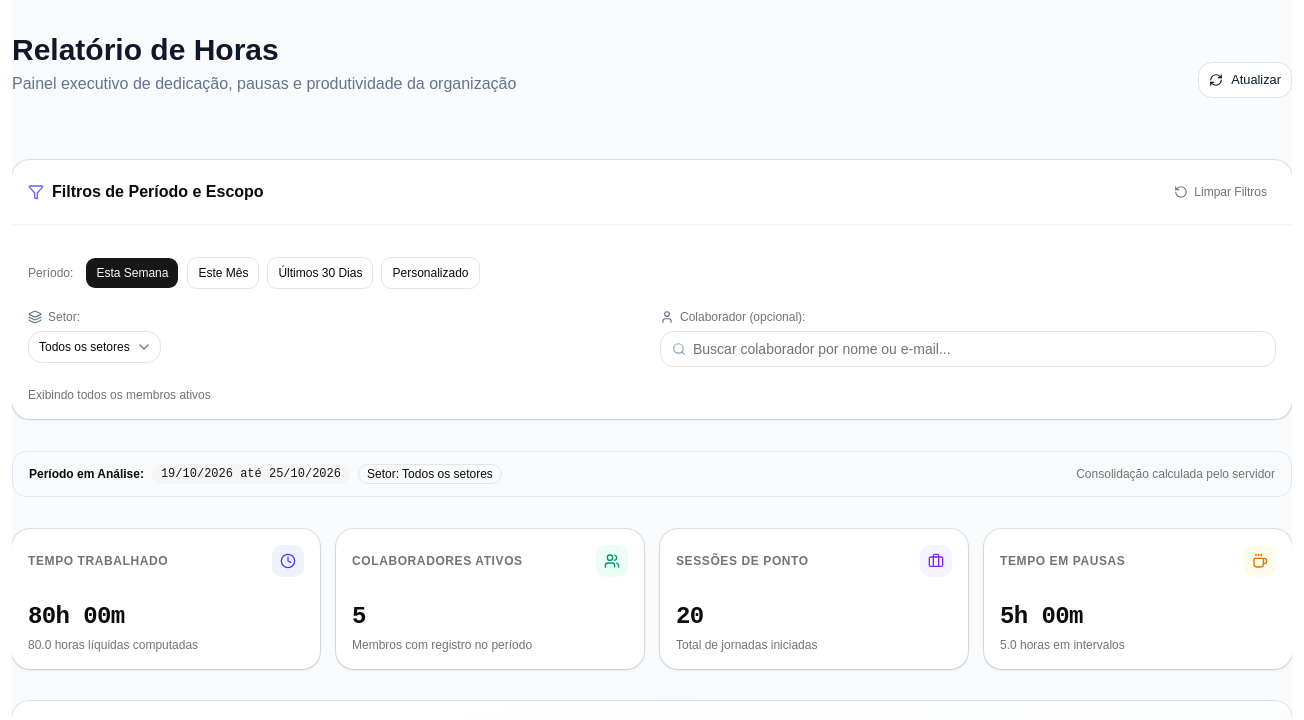
Test: HourReport Admin Page (Metrics Summary & Users Breakdown) › deve limpar os filtros ao clicar no botão "Limpar Filtros"
Expected: the text "80h 00m" is shown, [28, 603, 125, 630]
Type "Alice" into the dropdown with test id "collaborator-autocomplete-input". click: (968, 349)
box: [660, 331, 1276, 367]
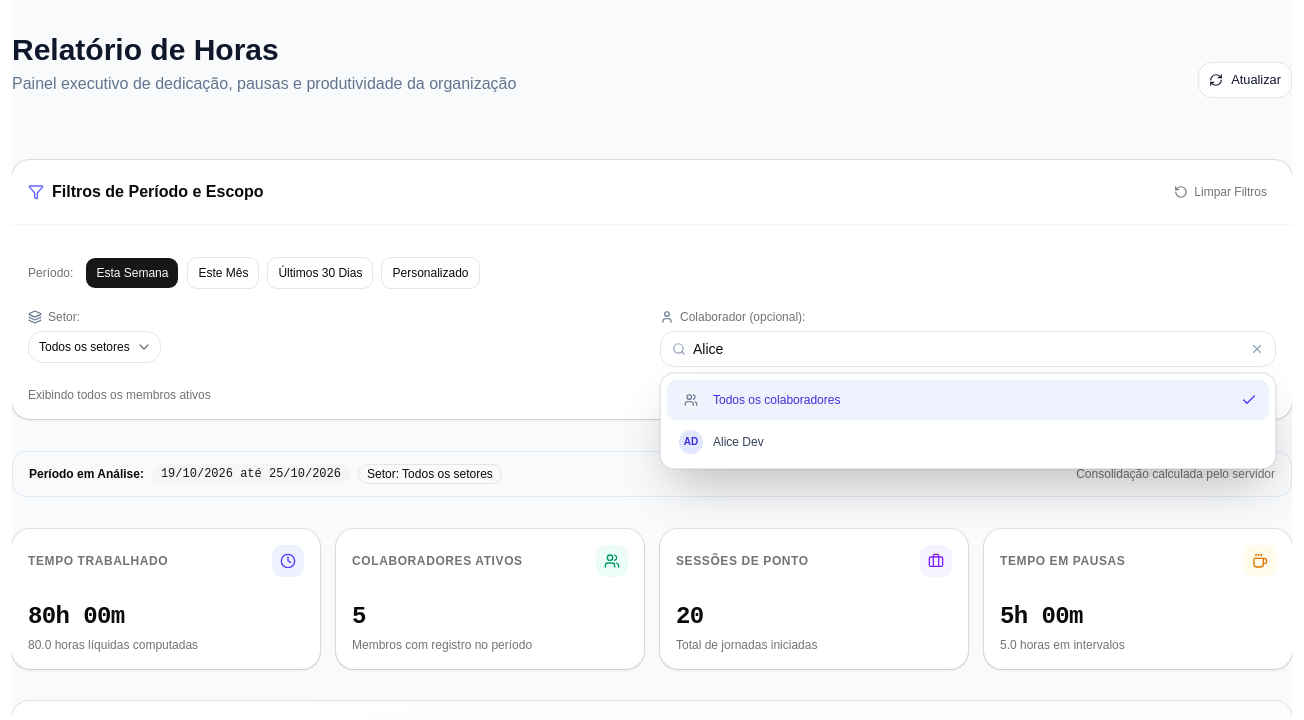
Click the button "Limpar Filtros". click: click(1221, 192)
box: [1165, 176, 1276, 208]
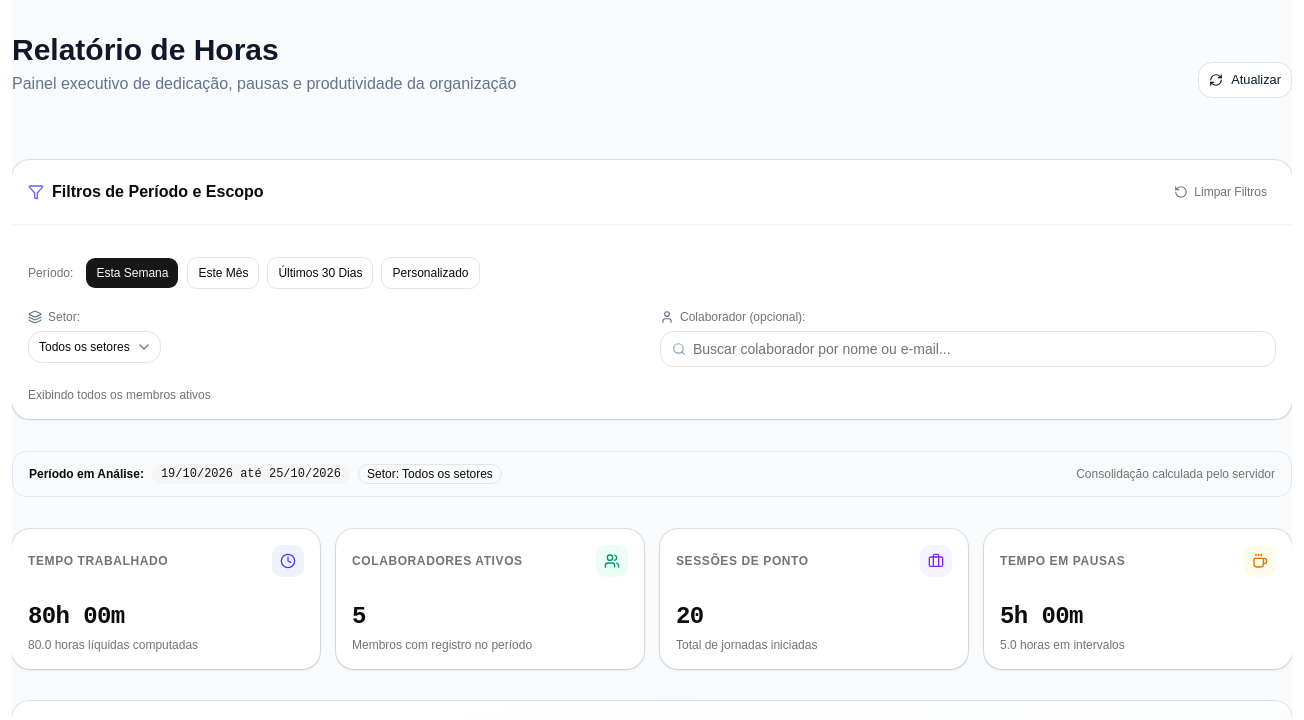
Expected: the dropdown with test id "collaborator-autocomplete-input" is empty, [660, 331, 1276, 367]
